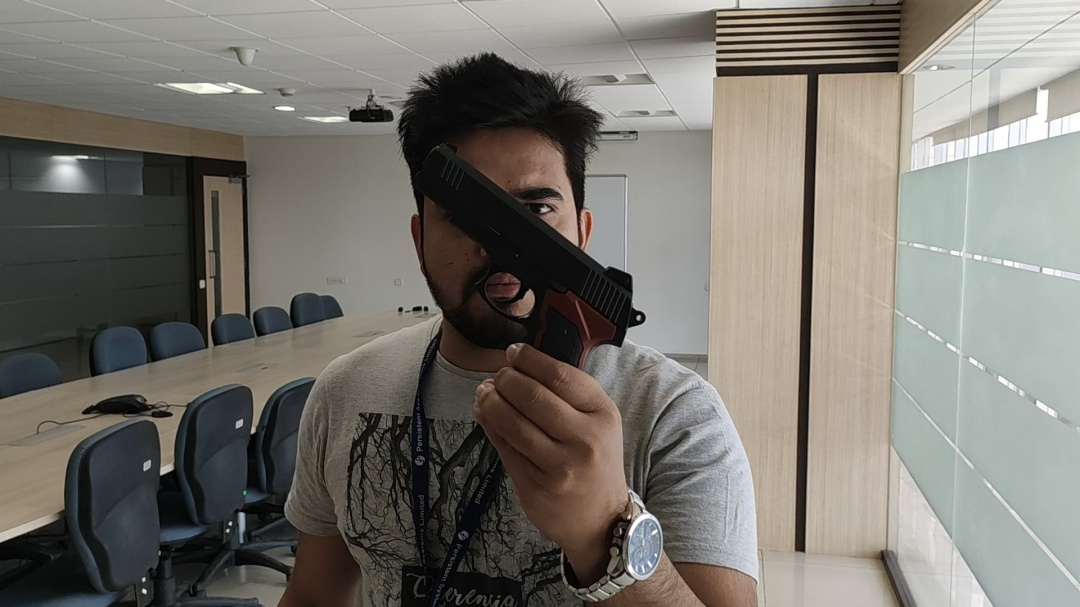gun: (415, 139, 653, 375)
